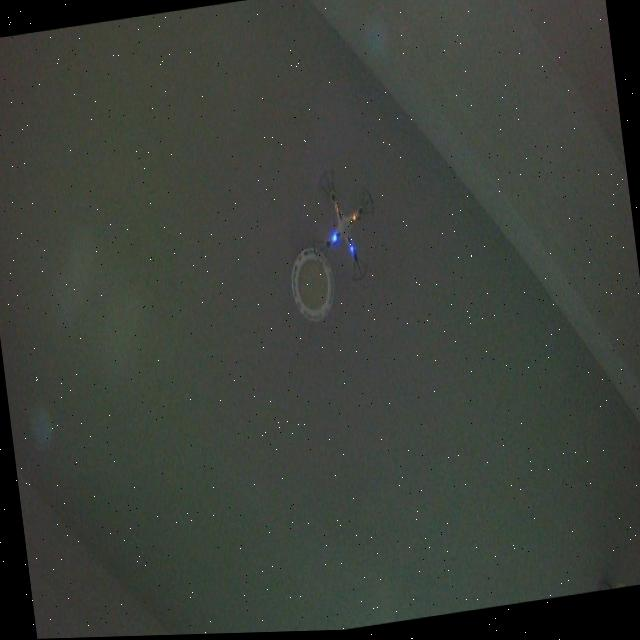drone: (301, 162, 387, 291)
